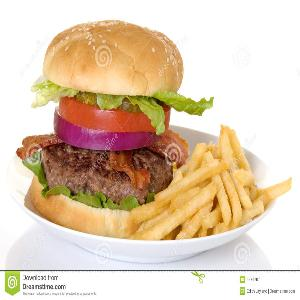cheeseburger: (24, 12, 191, 255)
fries: (153, 127, 298, 233)
